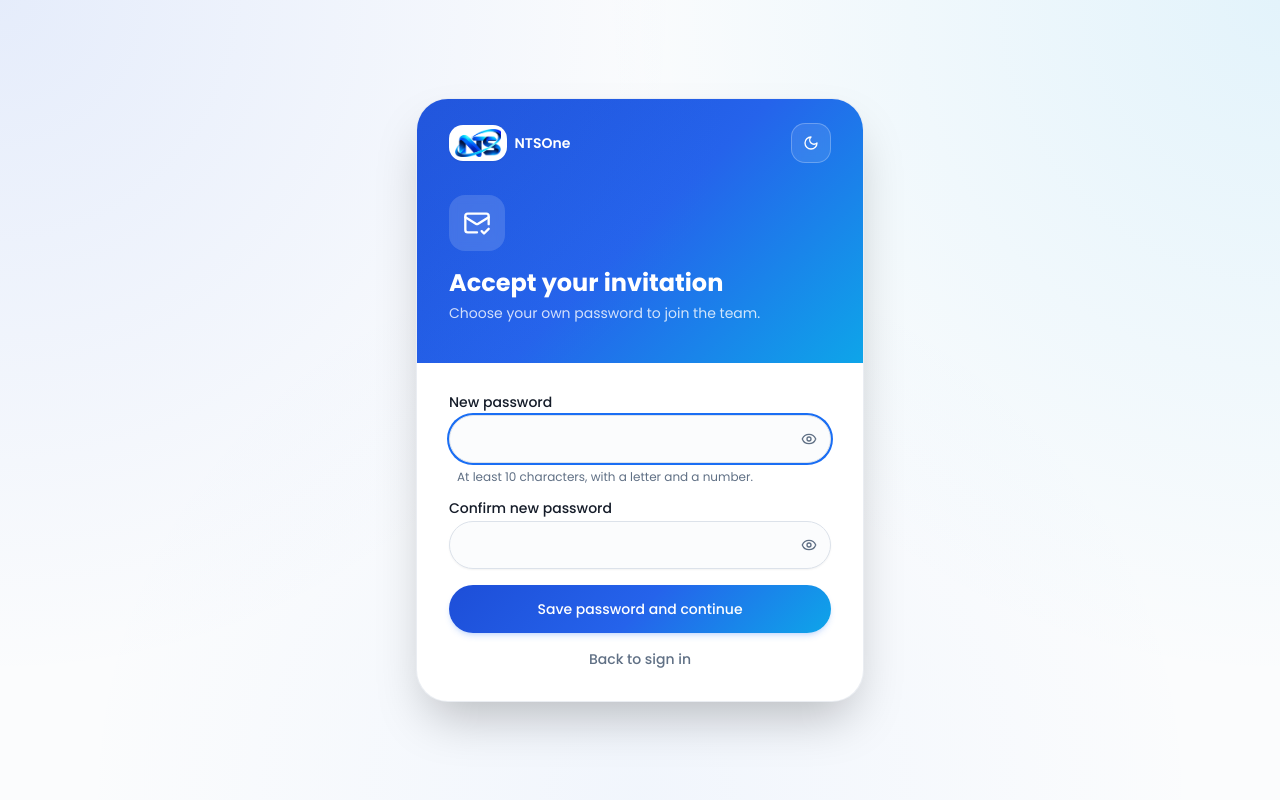
the accept invitation page › says so when the link has no token
The width and height of the screenshot is (1280, 800).
Type "MyOwnSecret2026" into the password field labelled "New password" at x=640, y=439, box [449,415,831,463]
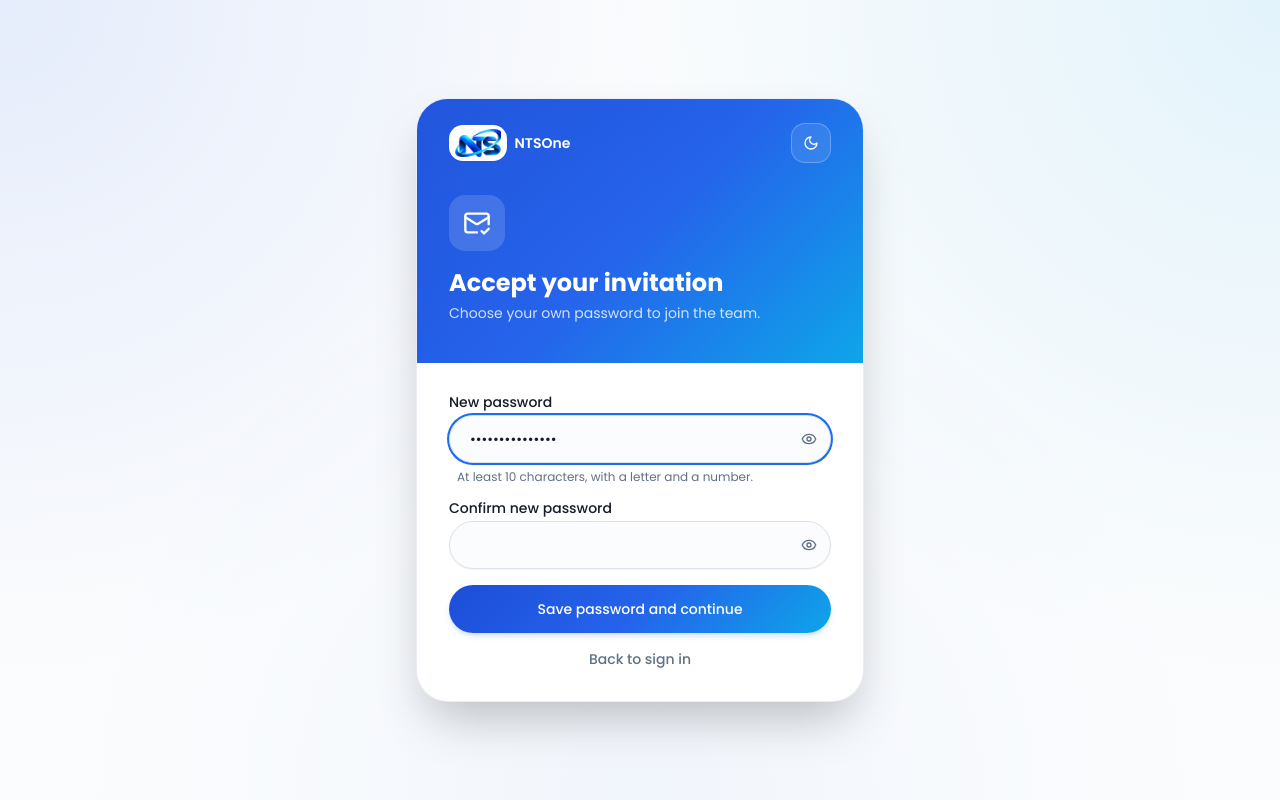
Type "MyOwnSecret2026" into the password field labelled "Confirm new password" at x=640, y=545, box [449,521,831,569]
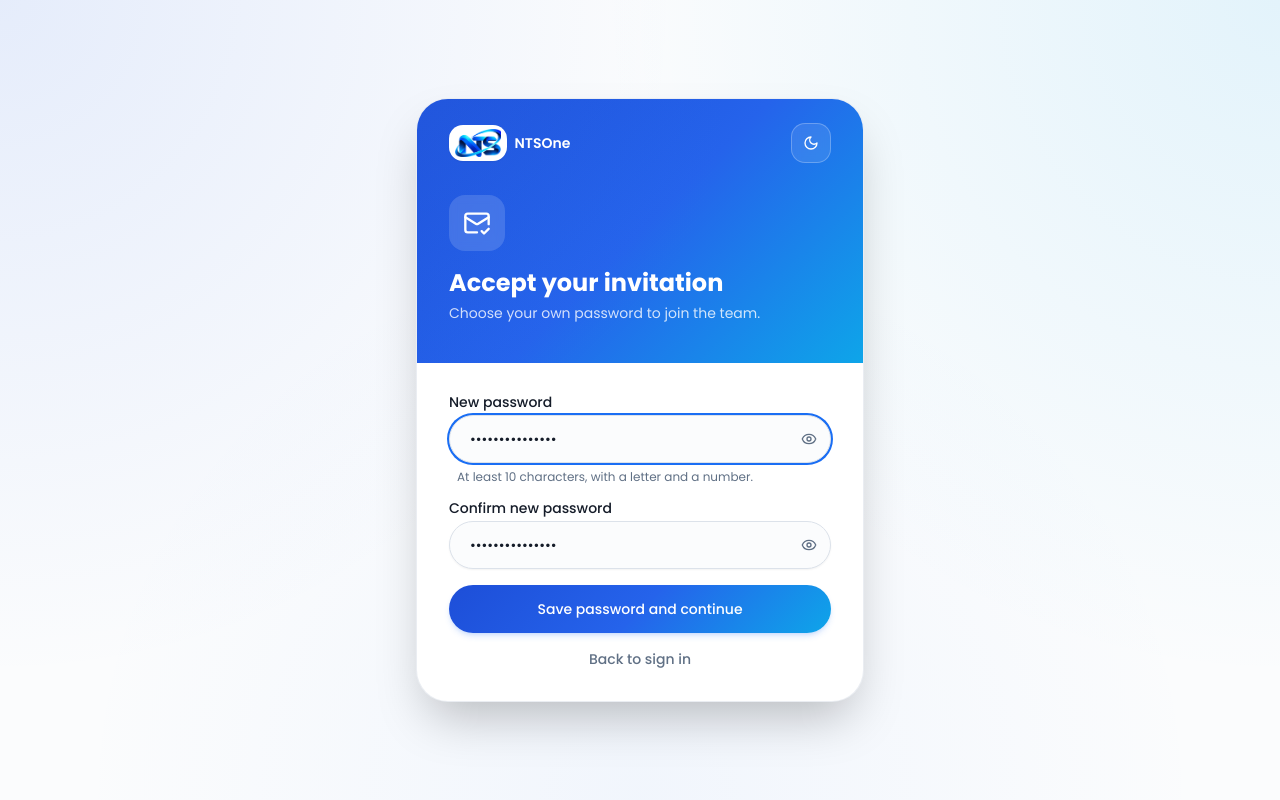
Click the button "Save password and continue" at x=640, y=609, box [449,585,831,633]
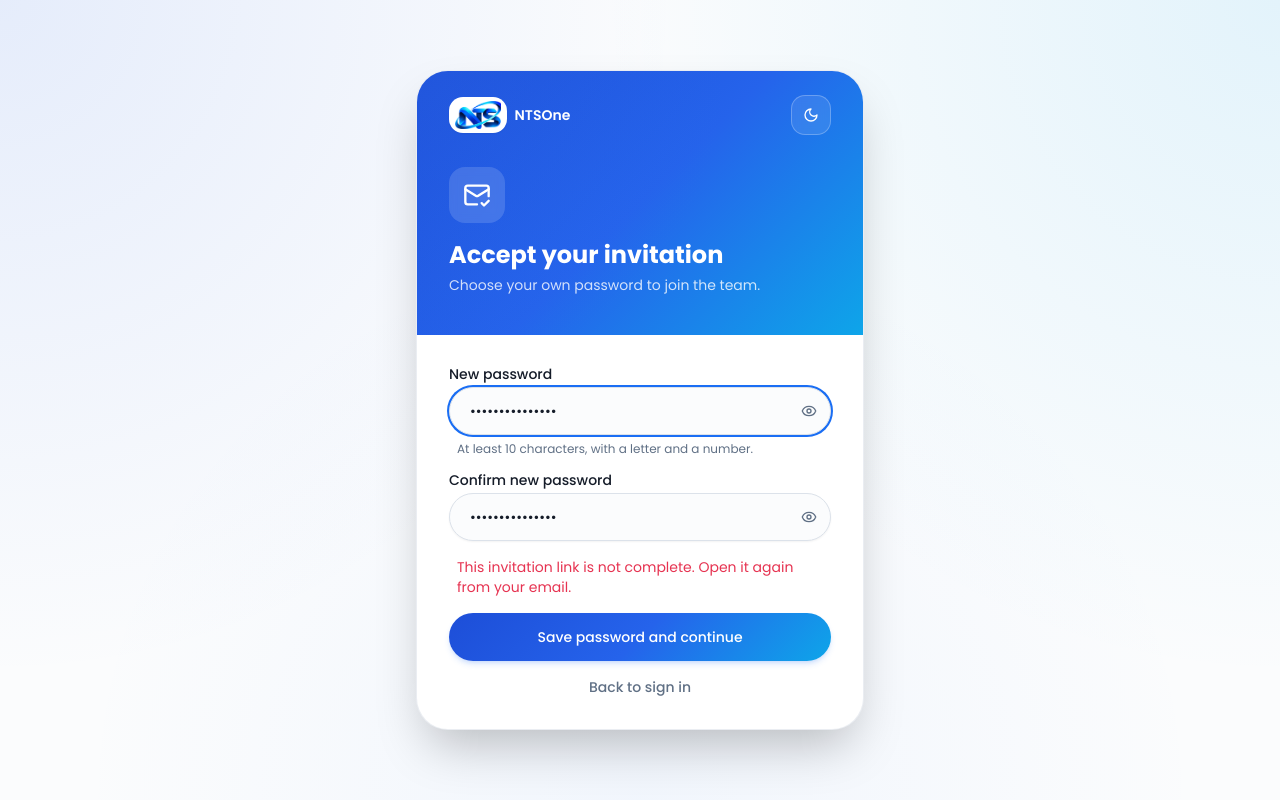
Now the message shows "not complete", box [457,557,793,597]
